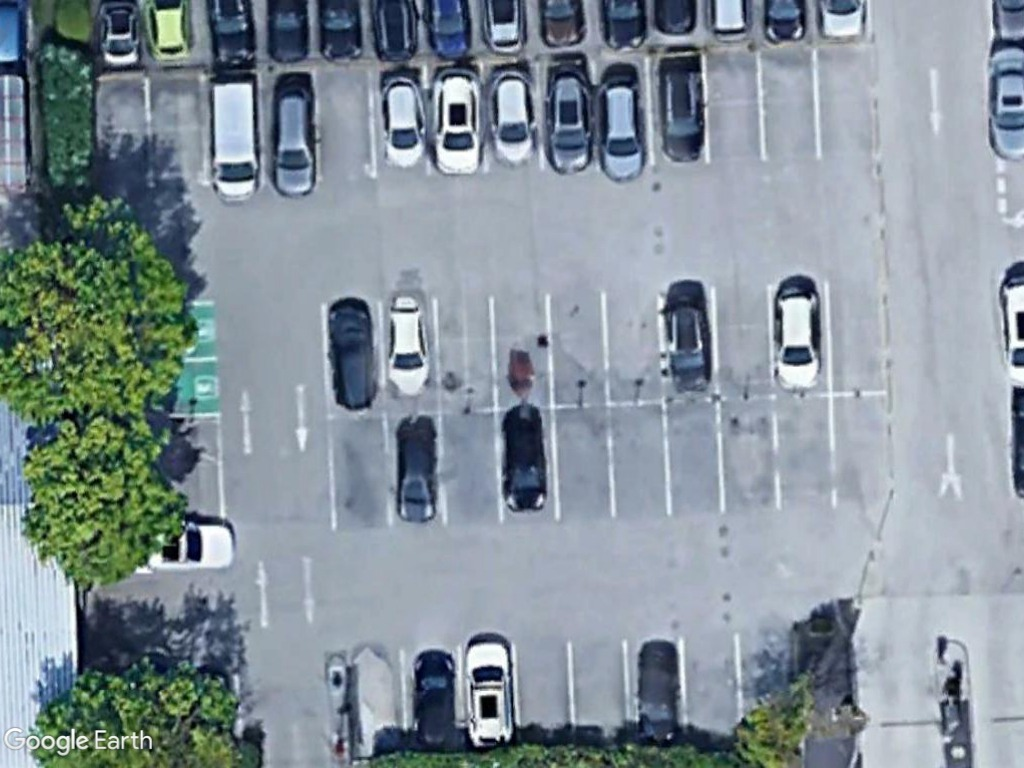car: (266, 82, 324, 198), (539, 61, 596, 175), (464, 637, 520, 752), (325, 302, 381, 415), (770, 280, 825, 395), (431, 61, 485, 176), (596, 72, 651, 183), (382, 295, 435, 402), (664, 293, 716, 401), (486, 62, 539, 166), (376, 70, 431, 170), (658, 62, 710, 165), (500, 409, 550, 516), (391, 421, 441, 525), (411, 651, 458, 753)
van: (205, 73, 262, 205)
